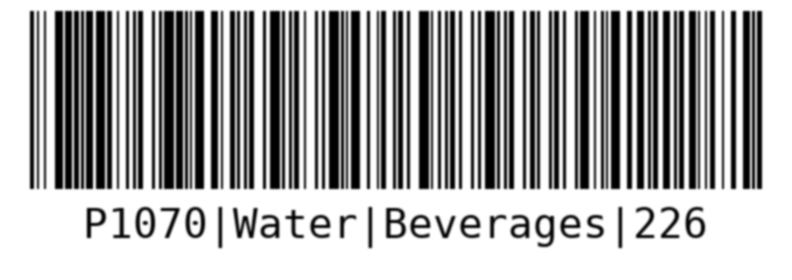milk: (15, 9, 776, 262)
